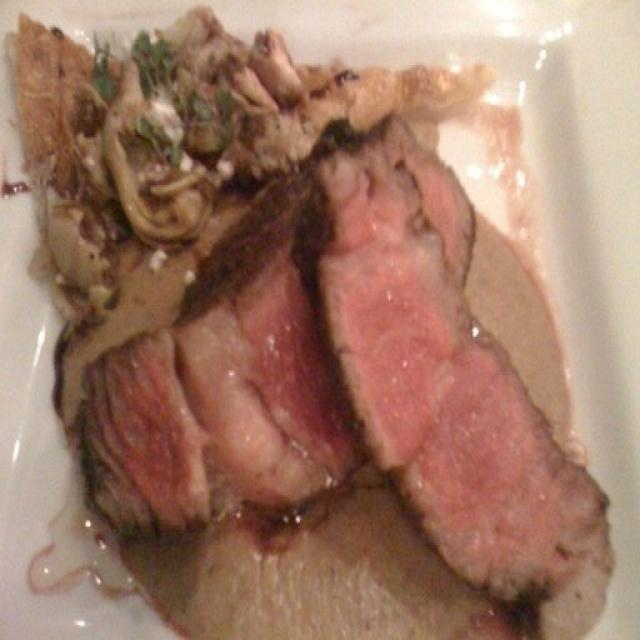Steak: (45, 115, 631, 640)
